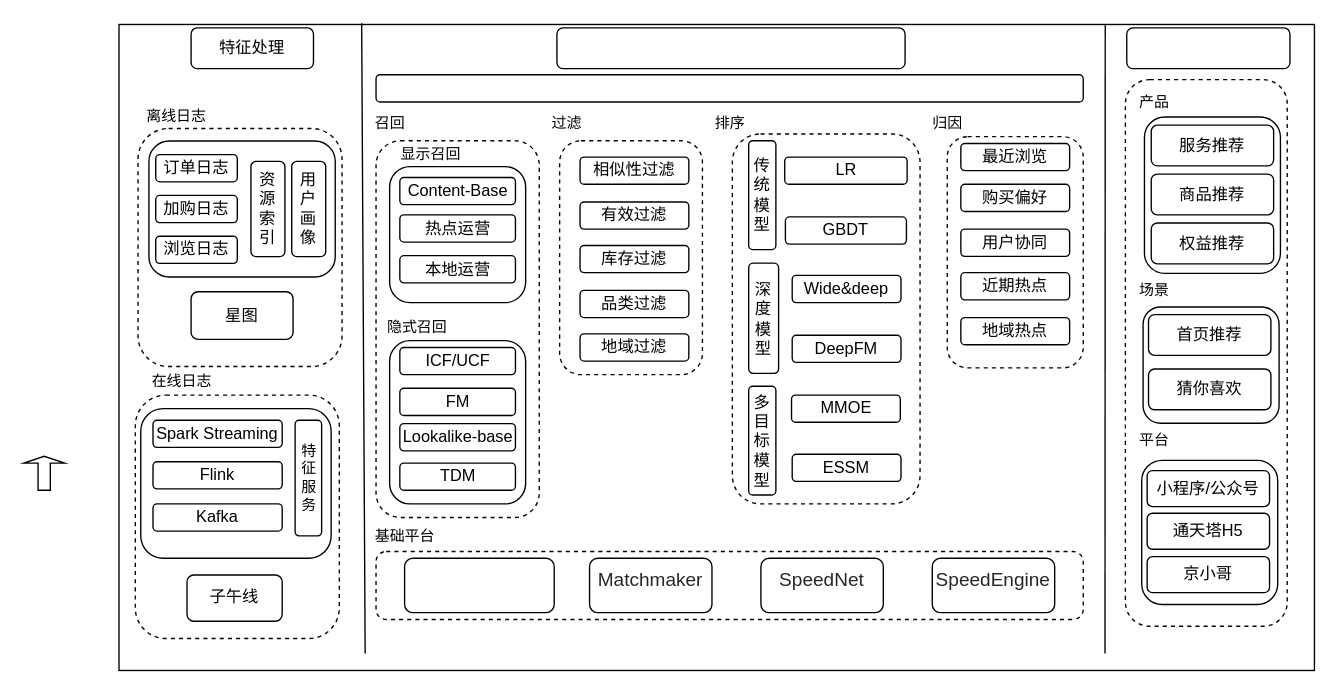
Image size: 1338x695. Some labels were removed from this diagram. Here are the shapes that lost their labels. From the top down, the centre of each, then its label:
At point 730,48: "推荐引擎".
At point 1207,48: "应用场景".
At point 729,87: "组件化、分阶段自由可搭配".
At point 478,585: "Galileo Graph".
